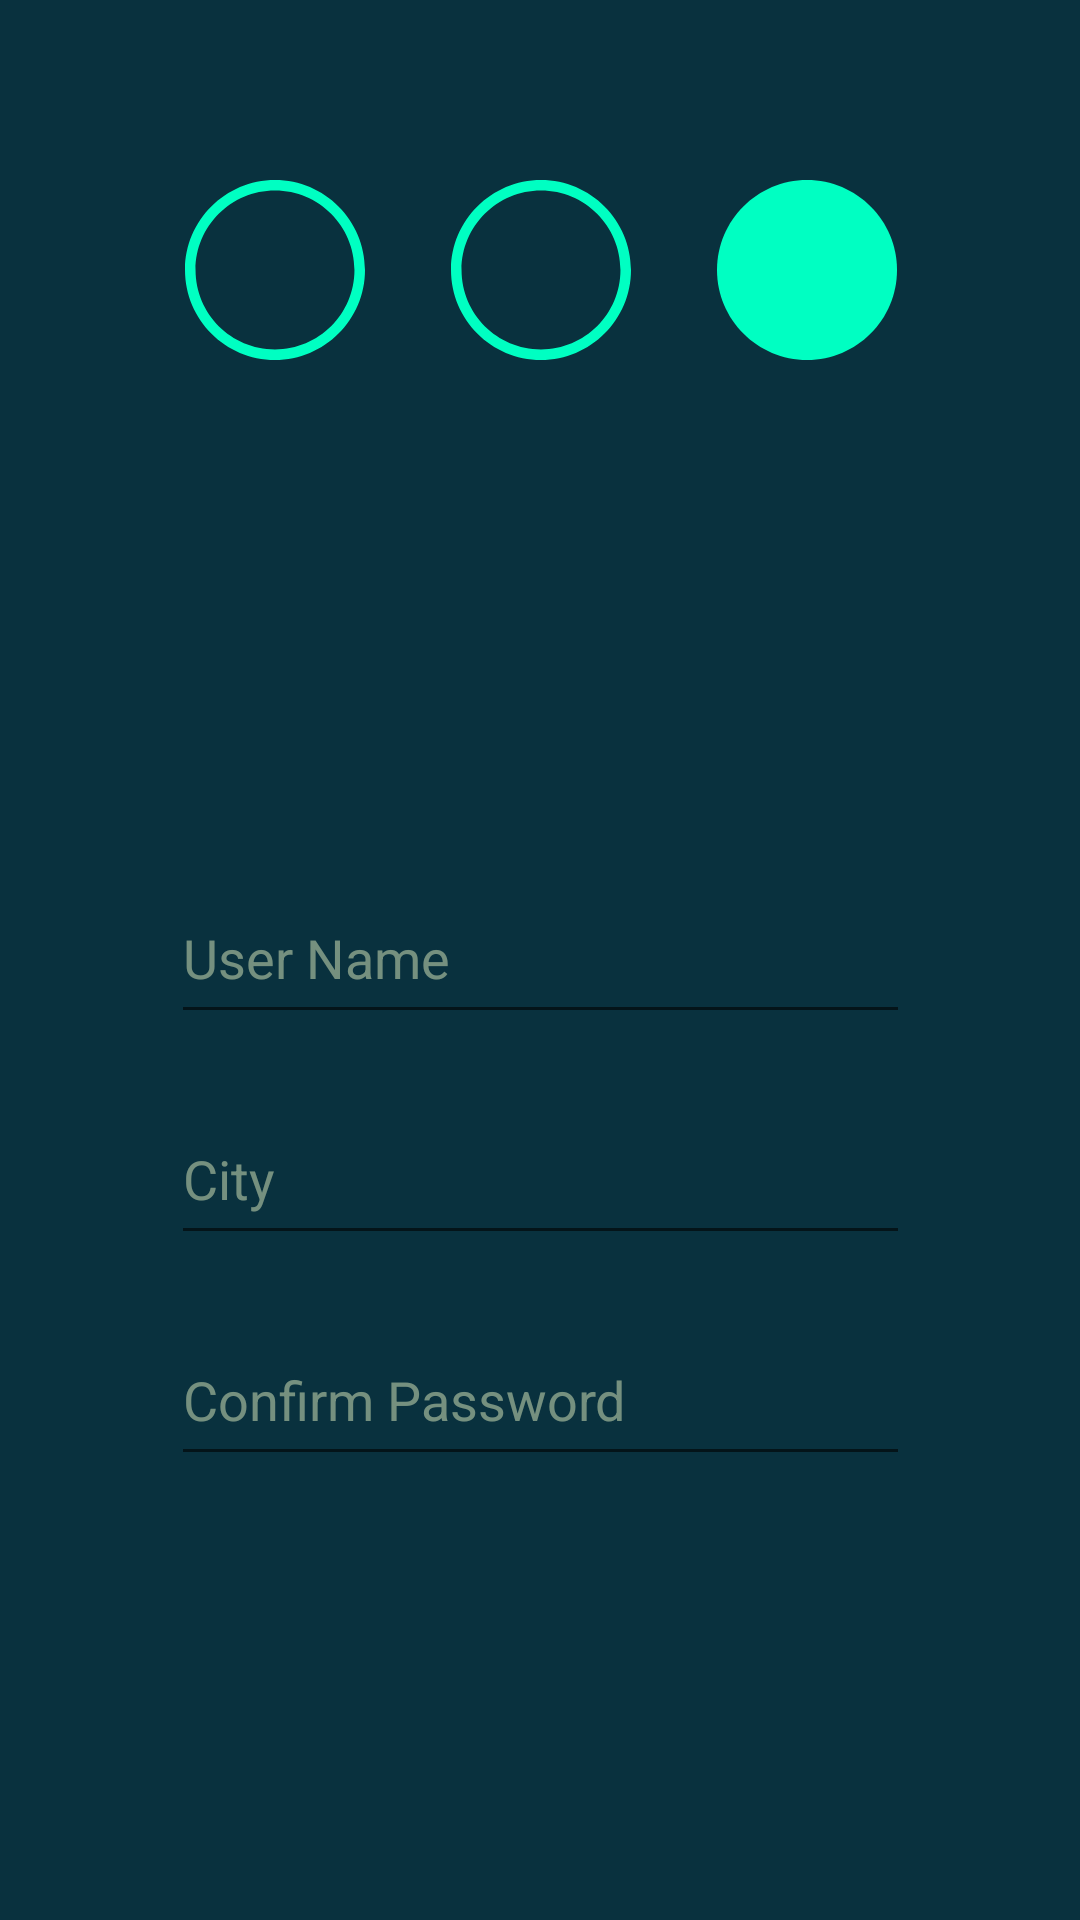

Screen size 1080w x 1920h. Icon name, then its center in pixels as (x,y):
step done: (807,270)
step undone: (275,270), (541,270)
